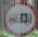Heavy Vehicles: (2, 0, 37, 35)
